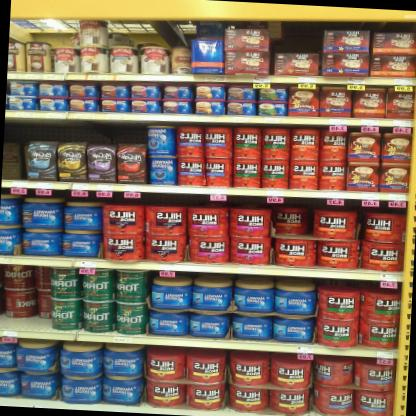empty_space: (2, 119, 30, 180)
